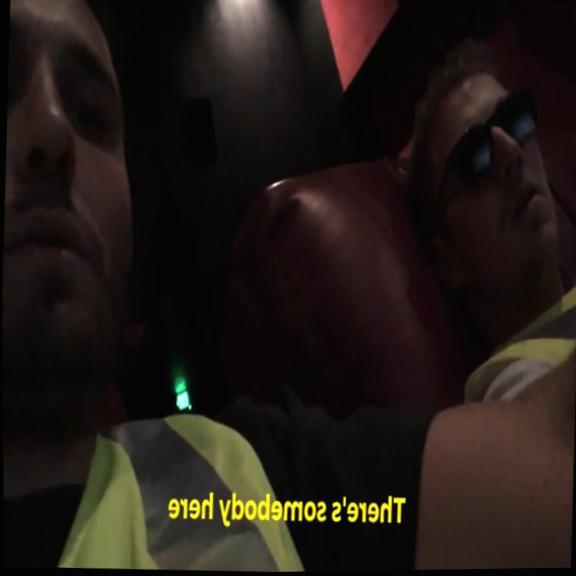safety_vest: (58, 399, 312, 575), (460, 265, 576, 408)
